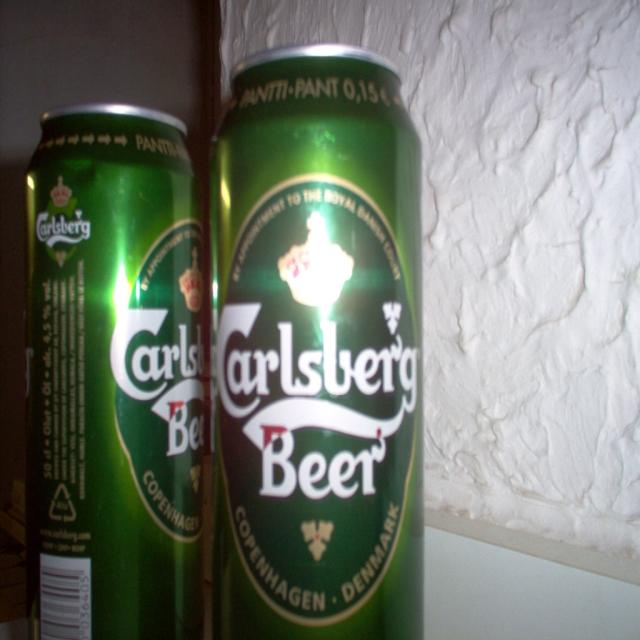carlsberg: (214, 174, 423, 628), (109, 219, 204, 540)
